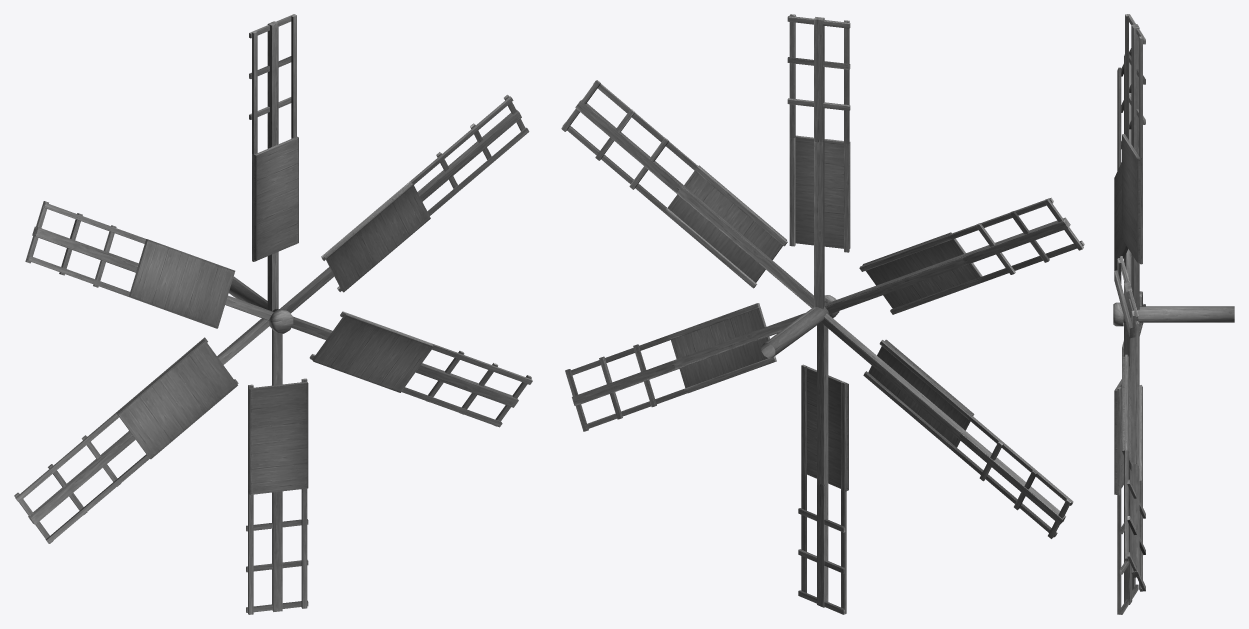
File: Rotor01.fbx
The picture shows the model from 3 angles, left to right: view 1: azimuth 30°, elevation 25°; view 2: azimuth 150°, elevation 25°; view 3: azimuth 270°, elevation 25°; orthographic projection. The views are drawn at different scales.
Visible parts, largest first — view 1: Sails01_LOD0; view 2: Sails01_LOD0; view 3: Sails01_LOD0.
Boxes of the visible parts, <box> form: Sails01_LOD0: <box>14,14,532,614</box>; Sails01_LOD0: <box>561,14,1084,614</box>; Sails01_LOD0: <box>1113,14,1234,614</box>.
Size of what is drawn, in the model's own units: 6.83 by 7.49 by 1.43.
